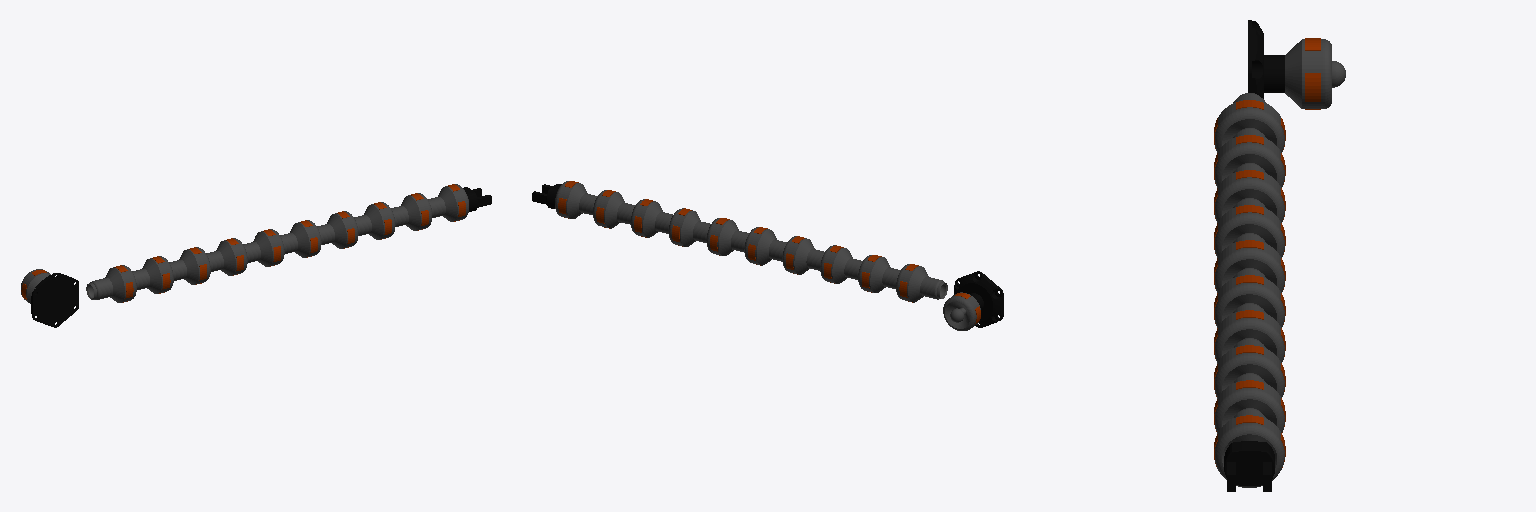
URDF robot description (quetzal_arm):
<?xml version="1.0" ?>
<robot name="quetzal_arm">

  <!-- Base Link -->
  <link name="base_link">
    <visual>
    <origin rpy="0 0 1.570796" xyz="0 0 0"/>
      <geometry>
        <mesh filename="package://quetzalarm_description/meshes/base.dae"/>
      </geometry>
    </visual>
  </link>

  <!-- Links Definitions -->
  <link name="link1">
    <visual>
      <origin rpy="0 0 0" xyz="0 0 0"/>
      <geometry>
        <mesh filename="package://quetzalarm_description/meshes/link.dae"/>
      </geometry>
    </visual>
  </link>
    <link name="link2">
    <visual>
    <origin rpy="0 0 0" xyz="0 0 0"/>
      <geometry>
        <mesh filename="package://quetzalarm_description/meshes/link.dae"/>
      </geometry>
    </visual>
  </link>
    <link name="link3">
    <visual>
    <origin rpy="0 0 0" xyz="0 0 0"/>
      <geometry>
        <mesh filename="package://quetzalarm_description/meshes/link.dae"/>
      </geometry>
    </visual>
  </link>
    <link name="link4">
    <visual>
    <origin rpy="0 0 0" xyz="0 0 0"/>
      <geometry>
        <mesh filename="package://quetzalarm_description/meshes/link.dae"/>
      </geometry>
    </visual>
  </link>
    <link name="link5">
    <visual>
     <origin rpy="0 0 0" xyz="0 0 0"/>
      <geometry>
        <mesh filename="package://quetzalarm_description/meshes/link.dae"/>
      </geometry>
    </visual>
  </link>
    <link name="link6">
    <visual>
    <origin rpy="0 0 0" xyz="0 0 0"/>
      <geometry>
        <mesh filename="package://quetzalarm_description/meshes/link.dae"/>
      </geometry>
    </visual>
  </link>
    <link name="link7">
    <visual>
    <origin rpy="0 0 0" xyz="0 0 0"/>
      <geometry>
        <mesh filename="package://quetzalarm_description/meshes/link.dae"/>
      </geometry>
    </visual>
  </link>
    <link name="link8">
    <visual>
    <origin rpy="0 0 0" xyz="0 0 0"/>
      <geometry>
        <mesh filename="package://quetzalarm_description/meshes/link.dae"/>
      </geometry>
    </visual>
  </link>
    <link name="link9">
    <visual>
     <origin rpy="0 0 0" xyz="0 0 0"/>
      <geometry>
        <mesh filename="package://quetzalarm_description/meshes/link.dae"/>
      </geometry>
    </visual>
  </link>
  <link name="link10">
    <visual>
    <origin rpy="0 0 0" xyz="0 0 0"/>
      <geometry>
        <mesh filename="package://quetzalarm_description/meshes/link.dae"/>
      </geometry>
    </visual>
  </link>
  <link name="end_effector">
    <visual>
      <origin rpy="0 0 0" xyz="0 0 0"/>
      <geometry>
        <mesh filename="package://quetzalarm_description/meshes/grip.dae"/>
      </geometry>
    </visual>
  </link>

  <!-- Joints Definitions -->
  <joint name="joint0" type="revolute">
    <parent link="base_link"/>
    <child link="link1"/>
    <origin xyz="0.1 0 0" rpy="0 0 0"/>
    <axis xyz="1 1 1"/>
    <limit effort="33.82" lower="-1.6056" upper="1.6056" velocity="1.256" />
  </joint>
  <joint name="joint1" type="revolute">
    <parent link="link1"/>
    <child link="link2"/>
    <origin xyz="0.1 0 0.0" rpy="0 0 0"/>
    <axis xyz="1 1 1"/>
     <limit effort="33.82" lower="-1.6056" upper="1.6056" velocity="1.256" />
  </joint>
    <joint name="joint2" type="revolute">
        <parent link="link2"/>
        <child link="link3"/>
        <origin xyz="0.1 0 0.0" rpy="0 0 0"/>
        <axis xyz="1 1 1"/>
         <limit effort="33.82" lower="-1.6056" upper="1.6056" velocity="1.256" />
    </joint>
    <joint name="joint3" type="revolute">
        <parent link="link3"/>
        <child link="link4"/>
        <origin xyz="0.1 0 0.0" rpy="0 0 0"/>
        <axis xyz="1 1 1"/>
         <limit effort="33.82" lower="-1.6056" upper="1.6056" velocity="1.256" />
    </joint>
    <joint name="joint4" type="revolute">
        <parent link="link4"/>
        <child link="link5"/>
        <origin xyz="0.1 0 0.0" rpy="0 0 0"/>
        <axis xyz="1 1 1"/>
         <limit effort="33.82" lower="-1.6056" upper="1.6056" velocity="1.256" />
    </joint>
    <joint name="joint5" type="revolute">
        <parent link="link5"/>
        <child link="link6"/>
        <origin xyz="0.1 0 0.0" rpy="0 0 0"/>
        <axis xyz="1 1 1"/>
         <limit effort="33.82" lower="-1.6056" upper="1.6056" velocity="1.256" />
    </joint>
    <joint name="joint6" type="revolute">
        <parent link="link6"/>
        <child link="link7"/>
        <origin xyz="0.1 0 0.0" rpy="0 0 0"/>
        <axis xyz="1 1 1"/>
         <limit effort="33.82" lower="-1.6056" upper="1.6056" velocity="1.256" />
    </joint>
    <joint name="joint7" type="revolute">
        <parent link="link7"/>
        <child link="link8"/>
        <origin xyz="0.1 0 0.0" rpy="0 0 0"/>
        <axis xyz="1 1 1"/>
         <limit effort="33.82" lower="-1.6056" upper="1.6056" velocity="1.256" />
    </joint>
    <joint name="joint8" type="revolute">
        <parent link="link8"/>
        <child link="link9"/>
        <origin xyz="0.1 0 0.0" rpy="0 0 0"/>
        <axis xyz="1 1 1"/>
         <limit effort="33.82" lower="-1.6056" upper="1.6056" velocity="1.256" />
    </joint>
  <joint name="joint9" type="revolute">
    <parent link="link9"/>
    <child link="link10"/>
    <origin xyz="0.1 0 0.0" rpy="0 0 0"/>
    <axis xyz="1 1 1"/>
     <limit effort="33.82" lower="-1.6056" upper="1.6056" velocity="1.256" />
  </joint>
  <joint name="end_effector_joint" type="revolute">
    <parent link="link10"/>
    <child link="end_effector"/>
    <origin xyz="0.1 0 0.0" rpy="0 0 0"/>
    <axis xyz="1 1 1"/>
     <limit effort="33.82" lower="-1.6056" upper="1.6056" velocity="1.256" />
  </joint>

</robot>

--- Facts derived from the render (not from the file) ---
Views: 3 orthographic renders of the robot side by side, from view 1: azimuth 30°, elevation 25°; view 2: azimuth 150°, elevation 25°; view 3: azimuth 270°, elevation 25°.
Model quetzal_arm with 12 links and 11 joints (11 revolute), rooted at base_link, posed all joints at 0.
Links seen in each view (by area): view 1: base_link, link1, link2, link10, link8, link3, link6, link7, link9, link4, link5; view 2: base_link, link1, link8, link7, link9, link10, link6, link3, link5, link2, link4; view 3: base_link, link2, link9, link1, link8, link5, link7, link3, link4, link6, link10, end_effector.
Link boxes in pixels (bbox=[...]): base_link: bbox=[21, 269, 78, 327]; link1: bbox=[86, 265, 136, 302]; link2: bbox=[132, 256, 173, 293]; link10: bbox=[428, 184, 468, 221]; link8: bbox=[354, 202, 395, 239]; link3: bbox=[169, 247, 210, 284]; link6: bbox=[280, 220, 321, 257]; link7: bbox=[317, 211, 358, 248]; link9: bbox=[391, 193, 431, 230]; link4: bbox=[206, 238, 247, 275]; link5: bbox=[243, 229, 284, 266]; base_link: bbox=[943, 271, 1003, 330]; link1: bbox=[896, 264, 947, 302]; link8: bbox=[631, 199, 672, 237]; link7: bbox=[669, 208, 710, 246]; link9: bbox=[593, 190, 635, 228]; link10: bbox=[555, 181, 597, 218]; link6: bbox=[707, 218, 748, 255]; link3: bbox=[820, 245, 862, 283]; link5: bbox=[744, 227, 786, 265]; link2: bbox=[858, 255, 900, 292]; link4: bbox=[782, 236, 824, 274]; base_link: bbox=[1248, 20, 1345, 109]; link2: bbox=[1214, 128, 1285, 187]; link9: bbox=[1214, 373, 1285, 433]; link1: bbox=[1214, 93, 1285, 152]; link8: bbox=[1214, 338, 1285, 398]; link5: bbox=[1214, 233, 1285, 293]; link7: bbox=[1214, 303, 1285, 363]; link3: bbox=[1214, 163, 1285, 222]; link4: bbox=[1214, 198, 1285, 257]; link6: bbox=[1214, 268, 1285, 328]; link10: bbox=[1214, 408, 1285, 487]; end_effector: bbox=[1224, 441, 1274, 491].
Bounding box of the posed robot: 1.23 × 0.1597 × 0.14 m (x, y, z).
12 mesh visuals loaded from 3 distinct referenced files (3 Collada DAE).